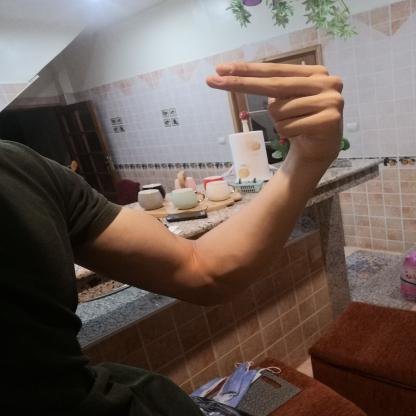AYN: (196, 51, 362, 171)
